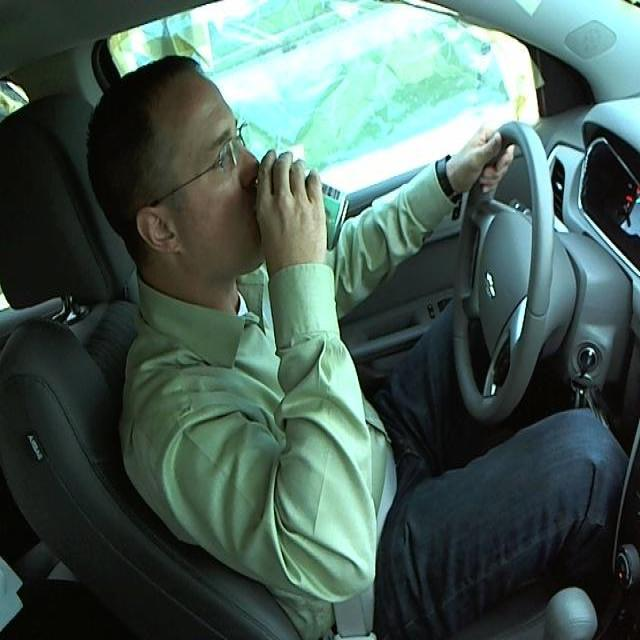Seatbelt: (242, 157, 352, 252)
